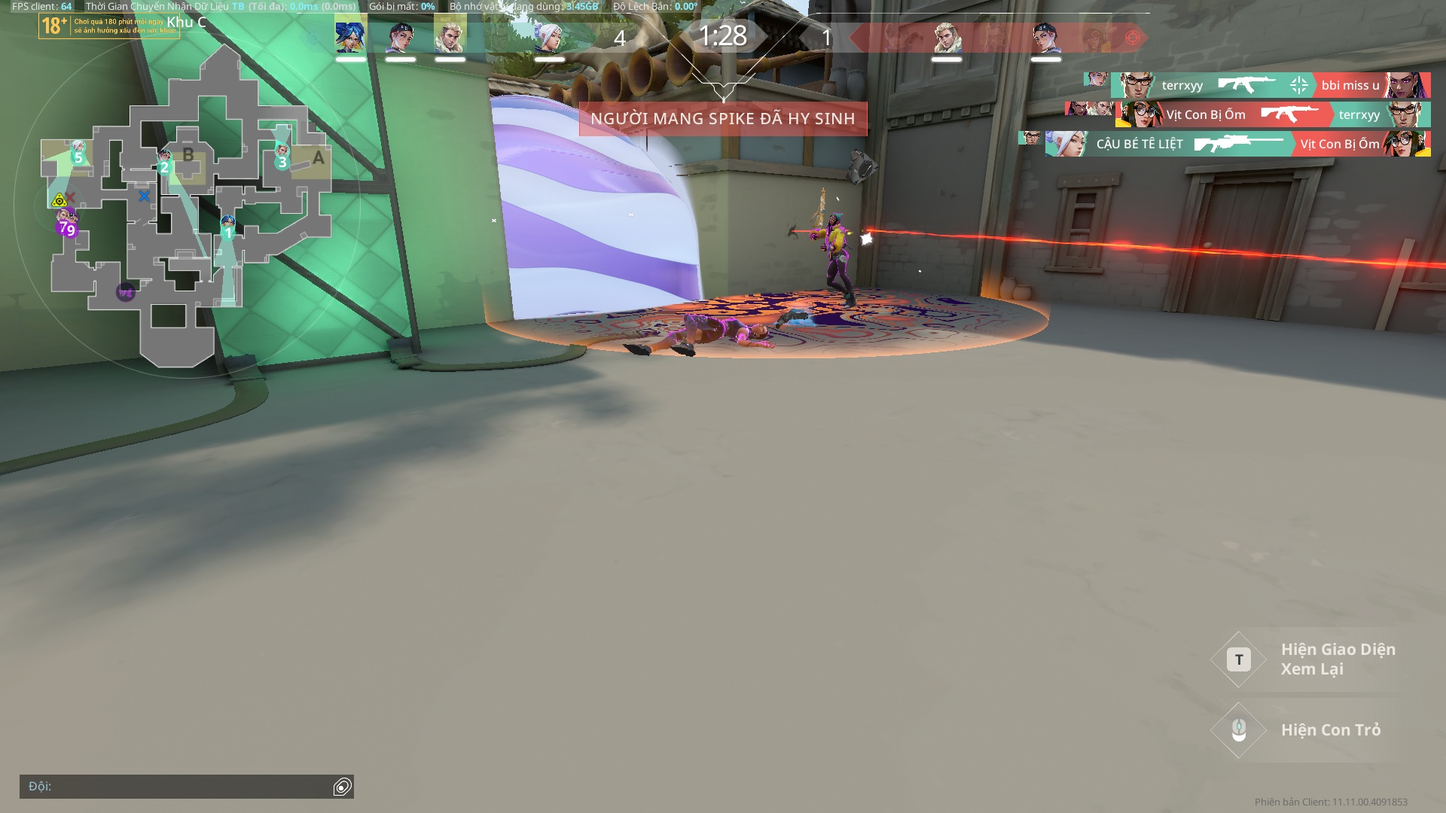body: (825, 224, 847, 251)
head: (828, 214, 840, 227)
